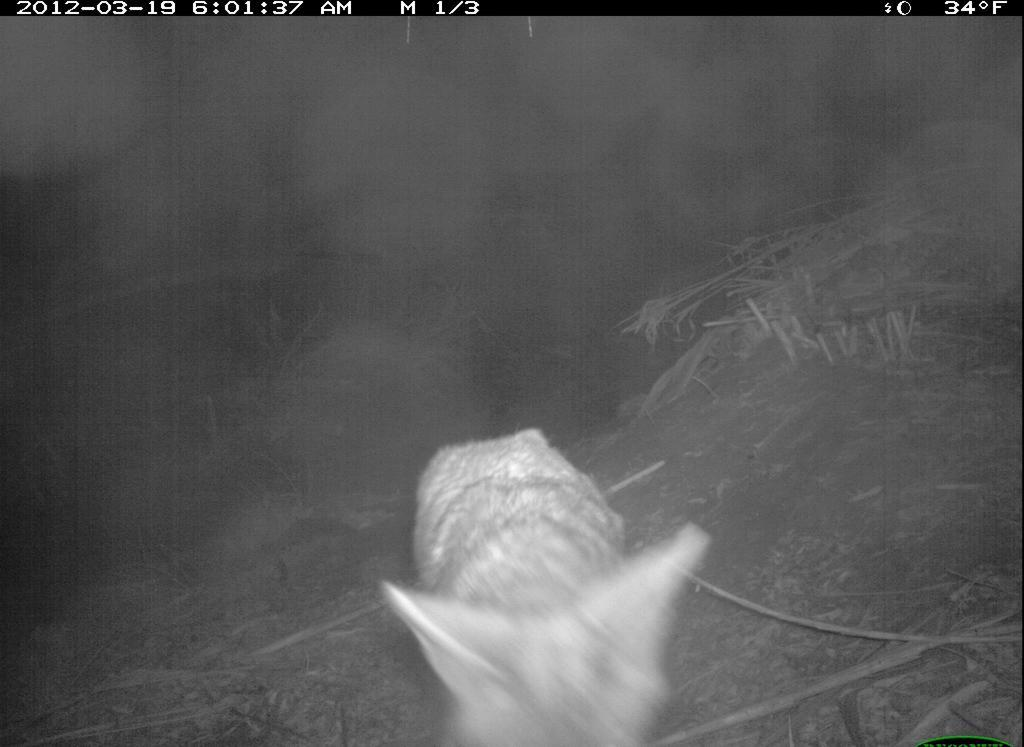coyote: (381, 415, 720, 744)
